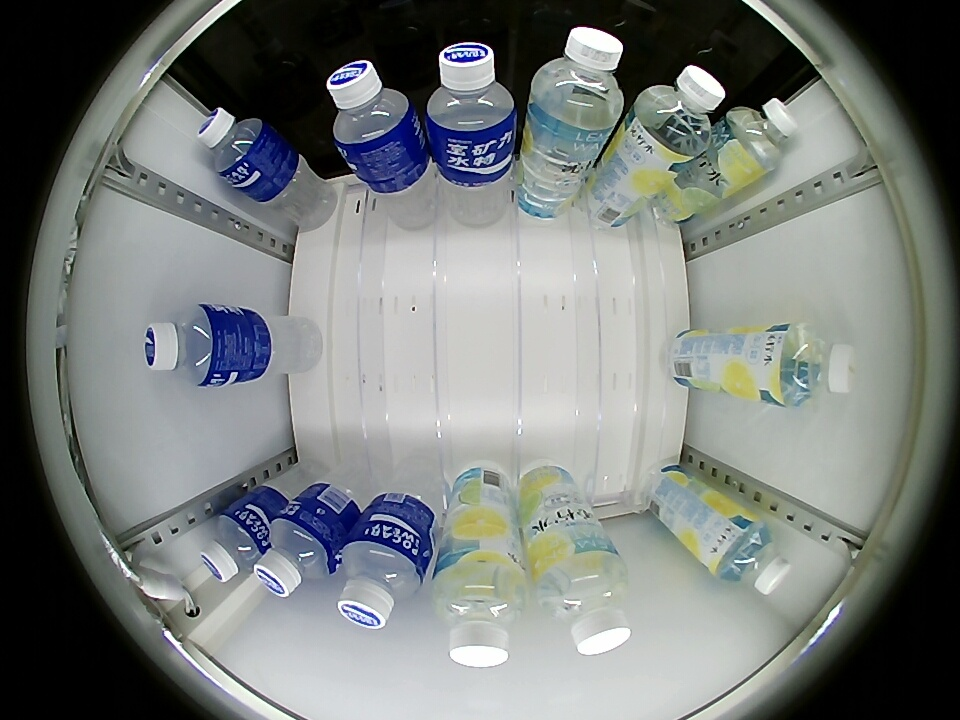baokuangli: (426, 41, 517, 151), (337, 527, 429, 631), (327, 60, 420, 160), (143, 303, 231, 388), (254, 513, 340, 598), (196, 107, 275, 184), (199, 506, 269, 582)
qinningshui: (528, 25, 626, 138), (534, 548, 633, 657), (431, 559, 527, 669), (629, 64, 727, 161), (771, 323, 858, 407), (710, 517, 791, 596), (725, 97, 800, 171)
